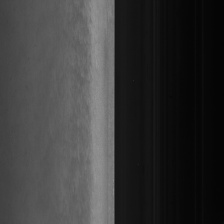silk_spot: (70, 38, 100, 152)
